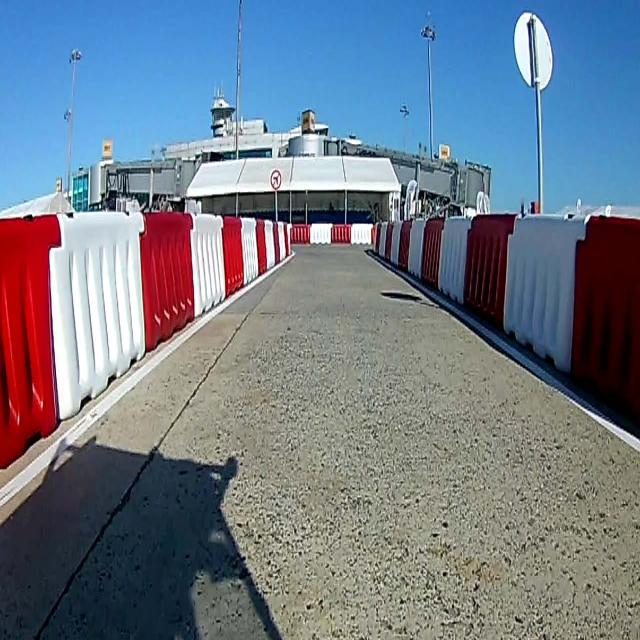soladonulmez: (270, 165, 282, 192)
